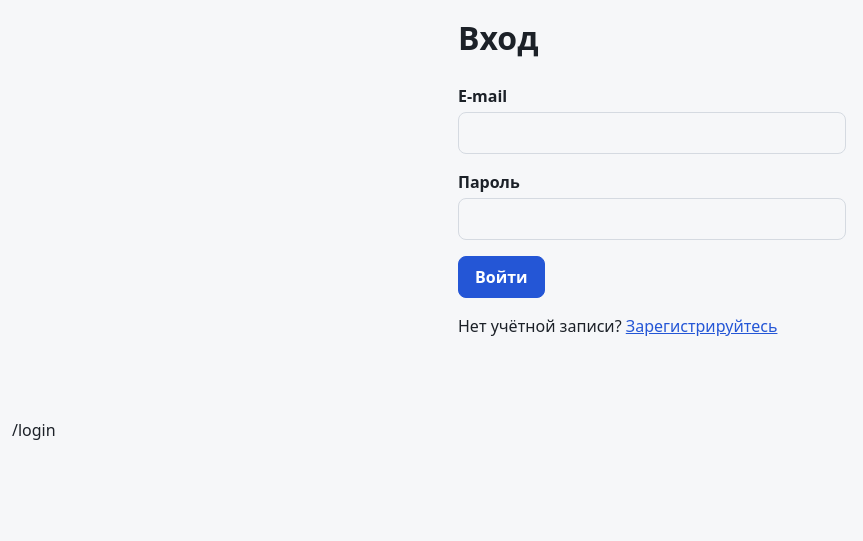
Test case: вход › 429: сообщение с временем ожидания из Retry-After
Expected: the heading "Вход" is shown, x1=458 y1=16 x2=538 y2=59
Type "ivan@example.com" into the field labelled "E-mail" at coordinates (652, 133), box x1=458 y1=112 x2=846 y2=154
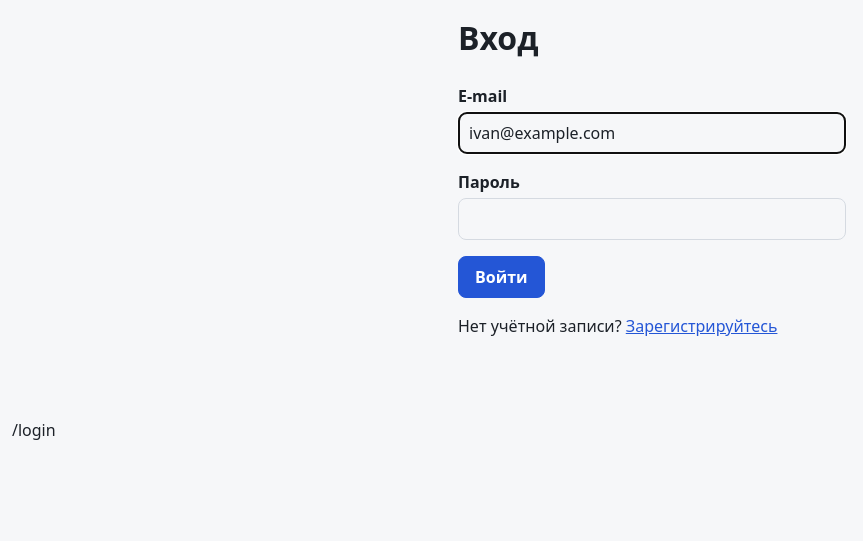
Type "wrong-password" into the password field labelled "Пароль" at coordinates (652, 219), box x1=458 y1=198 x2=846 y2=240
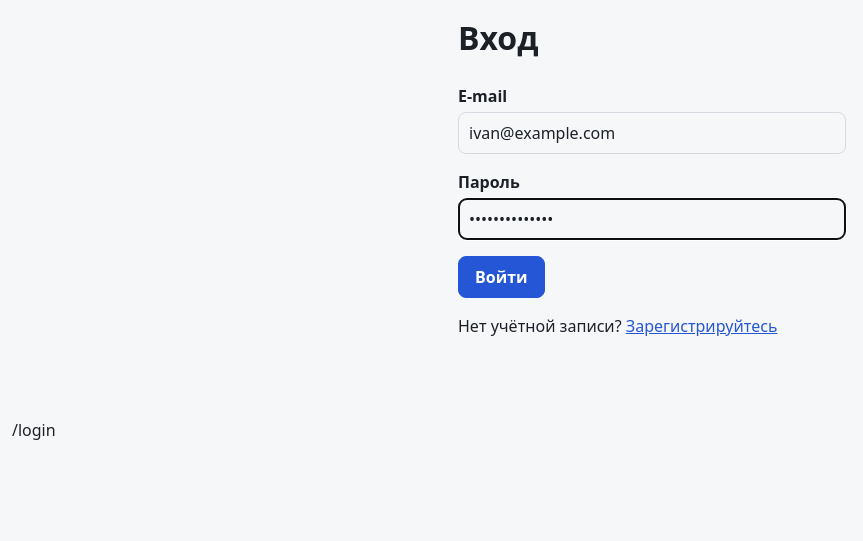
Click the button "Войти" at coordinates (501, 277), box x1=458 y1=256 x2=544 y2=298
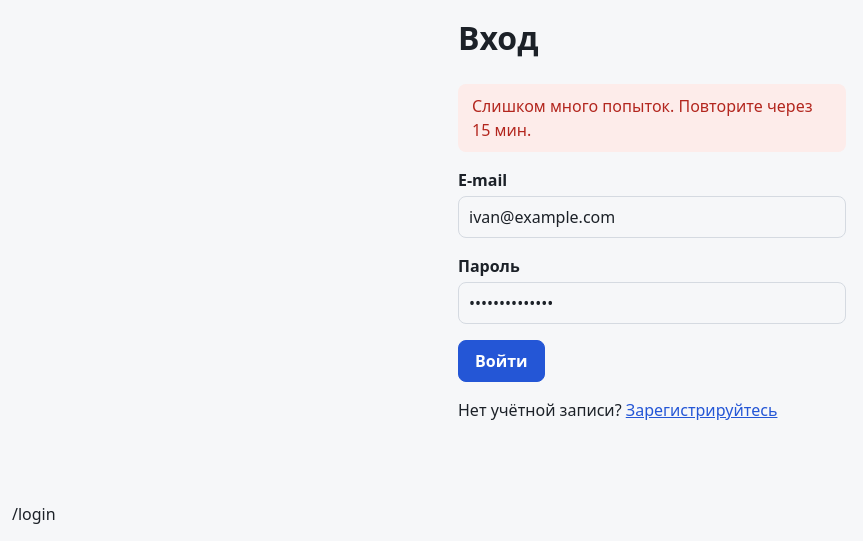
Expected: the message reads "Слишком много попыток. Повторите через 15 мин.", x1=472 y1=95 x2=812 y2=141
